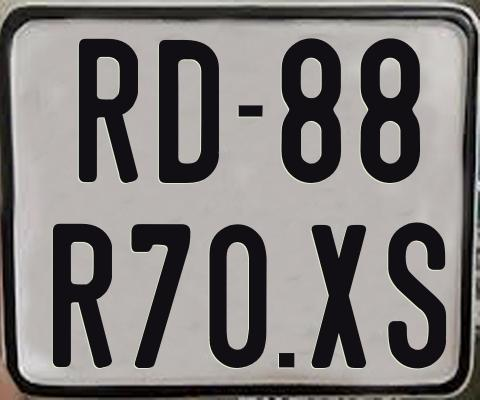0: (208, 223, 270, 373)
7: (129, 224, 190, 374)
8: (359, 35, 424, 180), (279, 37, 341, 184)
D: (158, 39, 220, 184)
R: (79, 37, 141, 182), (53, 221, 114, 366)
S: (388, 222, 450, 368)
X: (309, 222, 370, 368)
